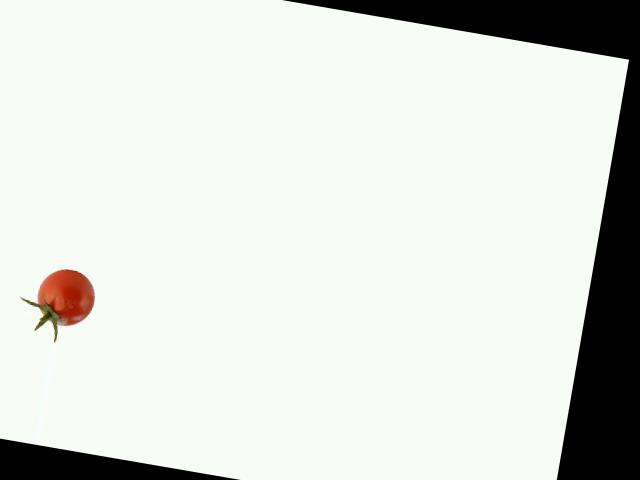tomato: (34, 264, 99, 329)
